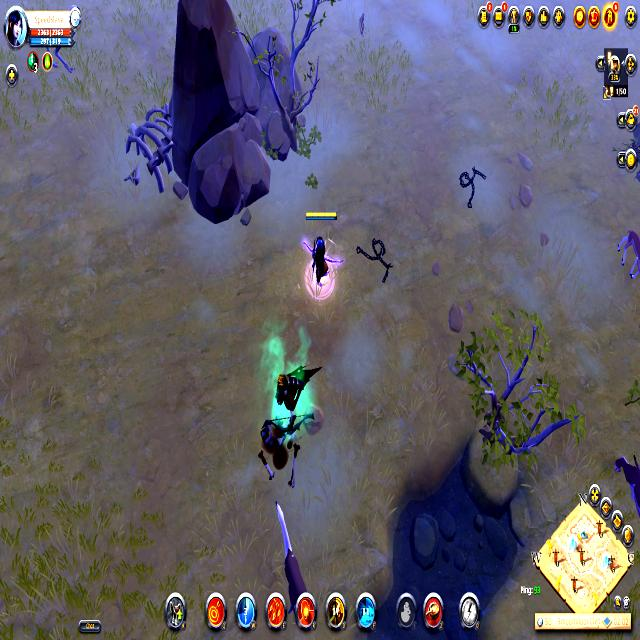ore: (268, 353, 326, 445), (272, 490, 310, 610), (613, 445, 640, 516), (615, 219, 640, 286)
red: (300, 207, 340, 296)
